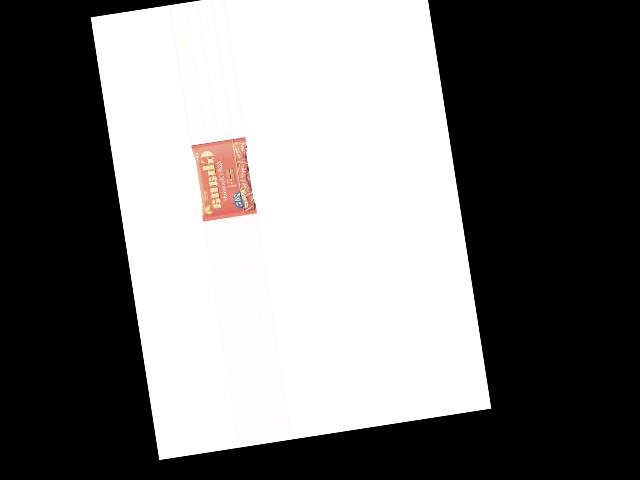chocolate: (192, 138, 259, 222)
